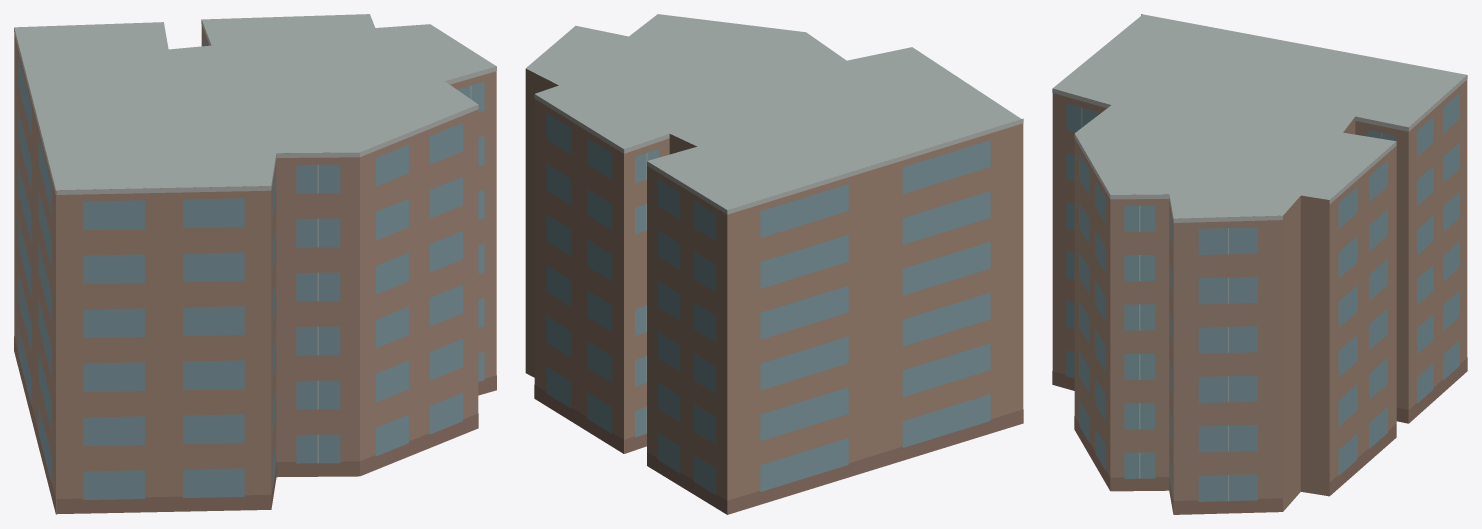
Rendered from survey-upis-32746312.glb.
3 renders of one model, left to right at view 1: azimuth 30°, elevation 25°; view 2: azimuth 150°, elevation 25°; view 3: azimuth 270°, elevation 25°, orthographic. The views are drawn at different scales.
Parts seen in each view (by area): view 1: survey-upis-32746312.tmp; view 2: survey-upis-32746312.tmp; view 3: survey-upis-32746312.tmp.
Boxes of the visible parts, x1,y1,x2,y2 form: survey-upis-32746312.tmp: (14,14,496,514); survey-upis-32746312.tmp: (525,14,1023,514); survey-upis-32746312.tmp: (1052,14,1467,514).
Bounding box in the file's own units: 24.3 × 16.4 × 20.83.
